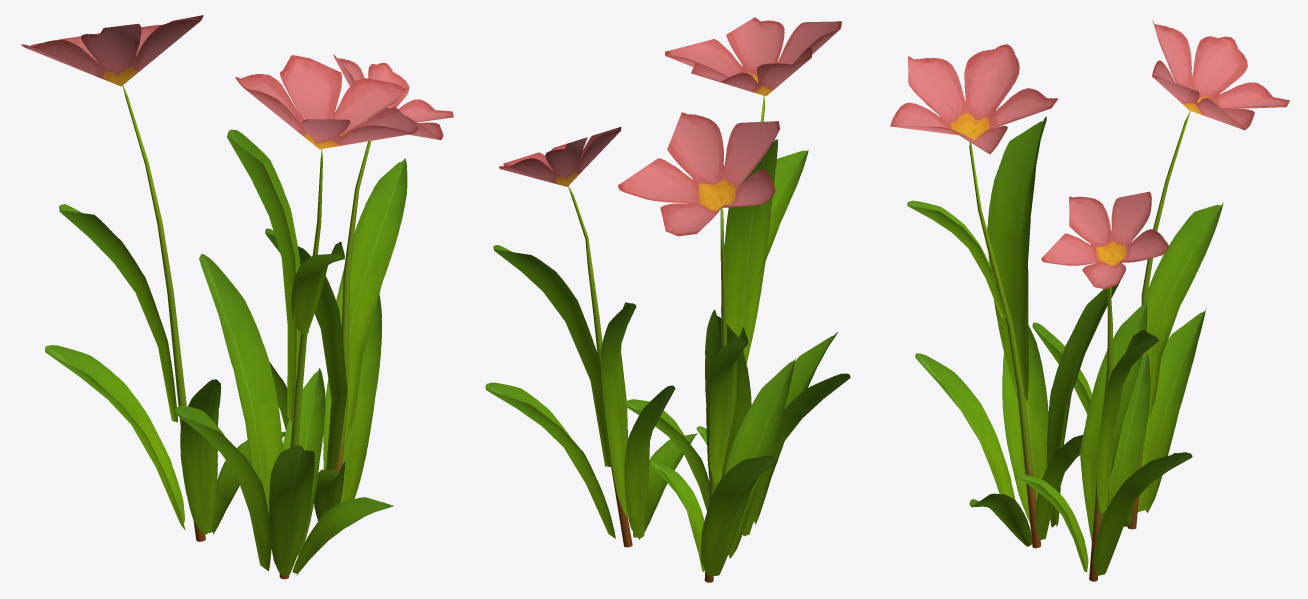
The model's file is nkflowers3.glb.
The picture shows the model from 3 angles, left to right: view 1: azimuth 30°, elevation 25°; view 2: azimuth 150°, elevation 25°; view 3: azimuth 270°, elevation 25°; orthographic projection. The views are drawn at different scales.
Parts seen in each view (by area): view 1: Flower_3_Group; view 2: Flower_3_Group; view 3: Flower_3_Group.
Boxes of the visible parts, x1,y1,x2,y2 form: Flower_3_Group: (21, 15, 453, 579); Flower_3_Group: (485, 17, 850, 582); Flower_3_Group: (890, 20, 1289, 581).
Size of the model in its own units: 1.49 by 2.05 by 1.59.
Materials: 2 (2 with a texture image).
